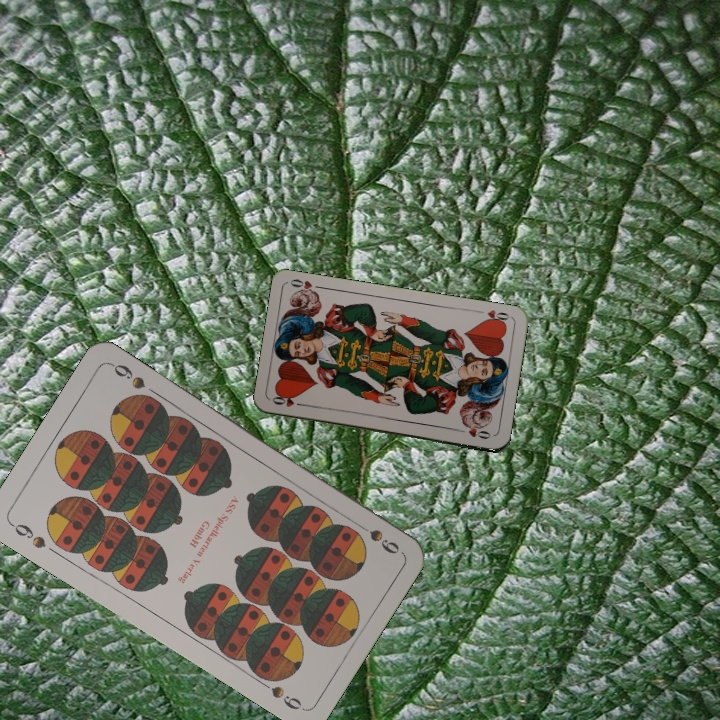HO: (473, 306, 513, 327), (268, 393, 308, 410)
S9: (350, 517, 402, 557), (6, 519, 49, 552)
